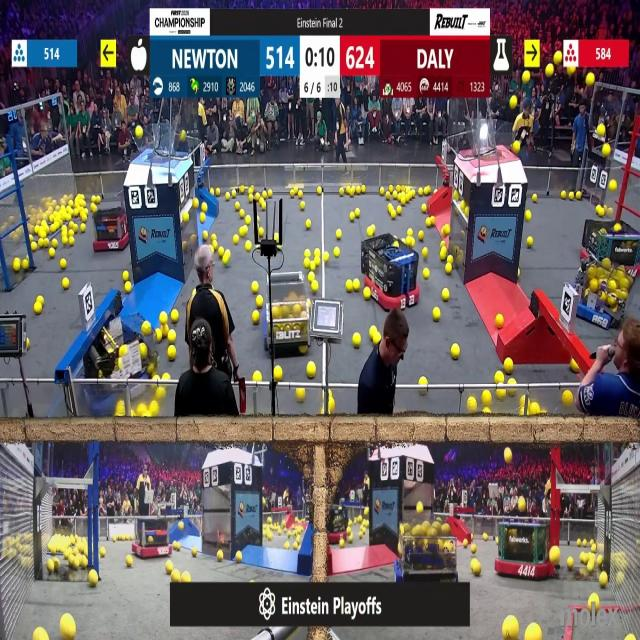ball_airborne: (503, 448, 512, 464), (587, 72, 596, 86), (518, 497, 526, 512), (545, 64, 553, 77), (597, 125, 605, 138), (555, 53, 563, 66), (602, 144, 610, 156), (523, 72, 531, 84), (511, 97, 518, 110), (514, 141, 522, 152), (136, 127, 143, 139), (180, 130, 186, 142), (609, 180, 616, 190), (515, 117, 520, 128)
ball_ground: (526, 626, 540, 640), (550, 548, 560, 564), (90, 569, 99, 586), (470, 560, 480, 575), (467, 397, 476, 412), (563, 391, 572, 406), (148, 404, 158, 417), (503, 358, 512, 372), (274, 365, 283, 379), (168, 346, 176, 361), (34, 630, 46, 640), (432, 308, 440, 322), (353, 334, 361, 348), (296, 388, 304, 402), (452, 345, 460, 359), (308, 362, 316, 376), (600, 572, 608, 586), (484, 391, 492, 405), (116, 403, 124, 417), (494, 372, 504, 383), (181, 570, 190, 582), (171, 310, 179, 323), (168, 332, 176, 345), (142, 321, 150, 334), (496, 314, 503, 328), (161, 312, 169, 324), (570, 359, 578, 371), (172, 570, 180, 582), (158, 388, 166, 400), (12, 261, 19, 274), (497, 389, 506, 399), (34, 304, 42, 315), (166, 561, 174, 572), (366, 224, 374, 235), (255, 295, 262, 307), (353, 279, 360, 291), (252, 312, 259, 324), (80, 556, 87, 568), (253, 372, 261, 382), (298, 346, 306, 356), (596, 206, 604, 216), (507, 376, 515, 386), (252, 281, 258, 294), (127, 556, 134, 567), (446, 265, 453, 276), (588, 562, 595, 573), (444, 288, 450, 300), (237, 552, 243, 564), (312, 281, 318, 293), (363, 288, 369, 300), (347, 280, 353, 292), (47, 560, 53, 572), (74, 557, 80, 569), (63, 279, 70, 289), (420, 377, 427, 387), (368, 326, 375, 336), (203, 232, 210, 242), (374, 336, 381, 346), (241, 225, 248, 235), (181, 212, 188, 222), (22, 261, 29, 271), (525, 211, 532, 221), (409, 238, 416, 248), (417, 502, 424, 512), (122, 271, 128, 282), (445, 223, 451, 234), (222, 254, 228, 265), (567, 558, 573, 569), (123, 282, 129, 293), (395, 207, 403, 215), (48, 248, 55, 257), (245, 215, 252, 224), (37, 240, 44, 249), (81, 547, 88, 556), (217, 552, 223, 562), (423, 270, 429, 280), (527, 238, 533, 248), (322, 252, 328, 262), (426, 217, 432, 227), (246, 242, 252, 252), (422, 248, 428, 258), (61, 258, 67, 268), (31, 242, 37, 252), (258, 228, 264, 238), (155, 333, 161, 343), (202, 203, 208, 213), (304, 258, 310, 268), (441, 250, 447, 260), (259, 200, 265, 210), (589, 600, 594, 612), (579, 554, 585, 564), (164, 325, 170, 335), (164, 373, 171, 381), (37, 295, 44, 303), (328, 398, 333, 409), (419, 232, 425, 241), (309, 273, 315, 282), (314, 248, 320, 257), (335, 248, 341, 257), (234, 236, 240, 245), (218, 247, 224, 256), (68, 237, 74, 246), (310, 263, 316, 272), (470, 543, 476, 552), (422, 204, 428, 213), (350, 212, 356, 221), (93, 204, 99, 213), (424, 186, 430, 195), (363, 506, 369, 515), (236, 202, 241, 212), (341, 538, 346, 548), (355, 208, 360, 218), (98, 548, 103, 558), (191, 548, 196, 558), (411, 188, 416, 198), (591, 594, 598, 601), (50, 240, 56, 248), (448, 255, 454, 263), (568, 191, 574, 199), (390, 210, 396, 218), (212, 241, 218, 249), (315, 256, 321, 264), (248, 193, 254, 201), (380, 187, 386, 195), (296, 190, 302, 198), (80, 214, 86, 222), (484, 409, 492, 415), (348, 534, 354, 542), (254, 192, 260, 200), (307, 219, 312, 228), (299, 202, 304, 211), (596, 599, 600, 610), (408, 230, 414, 237), (316, 187, 322, 194), (201, 214, 206, 222), (80, 223, 85, 231), (532, 192, 537, 200), (561, 190, 566, 198), (575, 191, 580, 199), (284, 541, 289, 549), (179, 522, 184, 530), (269, 189, 274, 197), (275, 234, 280, 242), (463, 539, 468, 547), (69, 228, 74, 236), (175, 540, 180, 548), (93, 194, 98, 202), (419, 187, 424, 195), (338, 231, 342, 240), (306, 249, 310, 258), (193, 200, 197, 209), (388, 204, 392, 213), (628, 635, 635, 640), (484, 533, 489, 540), (340, 188, 345, 195), (215, 188, 220, 195), (442, 241, 447, 248), (392, 191, 397, 198), (212, 234, 216, 242), (240, 210, 244, 218), (361, 185, 365, 193), (290, 190, 294, 198), (576, 538, 580, 546), (278, 530, 282, 538), (347, 528, 352, 534), (225, 192, 229, 199), (256, 215, 260, 222), (233, 190, 237, 197), (386, 191, 390, 198), (250, 578, 255, 583), (320, 411, 324, 417), (27, 340, 30, 348), (112, 536, 116, 542)
goal: (465, 126, 522, 160), (131, 127, 190, 159)
robot_blue: (85, 314, 163, 411), (396, 522, 459, 597), (572, 259, 629, 329), (263, 287, 313, 359)
robot_red: (362, 236, 421, 310), (497, 514, 553, 578), (585, 223, 640, 273), (131, 515, 173, 558), (92, 208, 130, 253), (330, 506, 351, 543)
